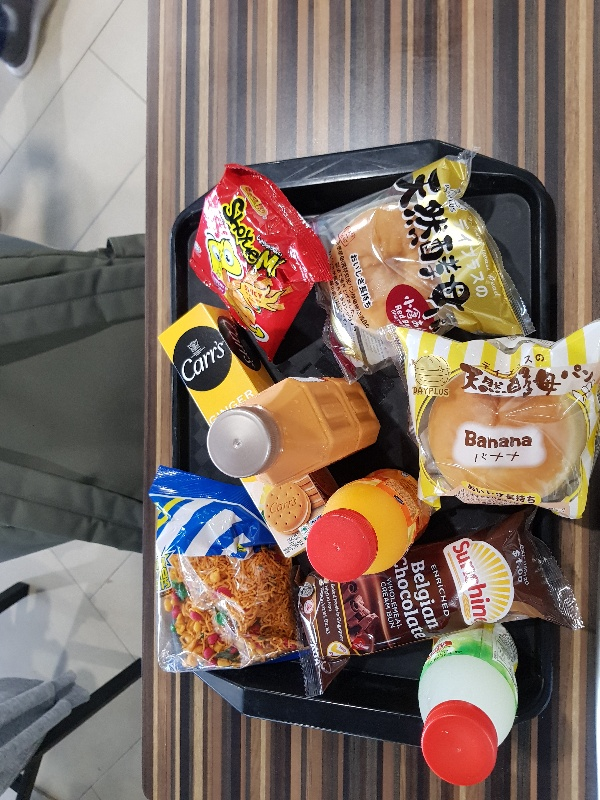Carr's Ginger Lemon Cremes: (156, 302, 337, 562)
Dayplus Banana: (393, 318, 600, 520)
Dayplus Red Bean: (303, 155, 528, 375)
Fruit Tree Yuzu Mixed Juice Drink: (416, 621, 518, 788)
ShoyueMi Spicy Flavoured Snacks: (186, 162, 335, 360)
Star Tidbits Mixer: (149, 464, 301, 674)
Sunkist Orange Juice Drink: (306, 468, 435, 584)
Sunshine Belgium Chocolate Wholemeal Cream Bun: (293, 503, 583, 684)
Thai Milk Tea: (207, 375, 378, 486)
